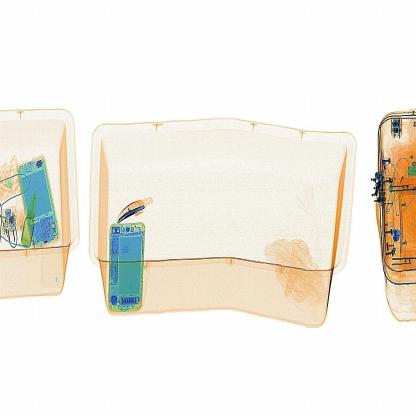pliers: (113, 193, 155, 226)
